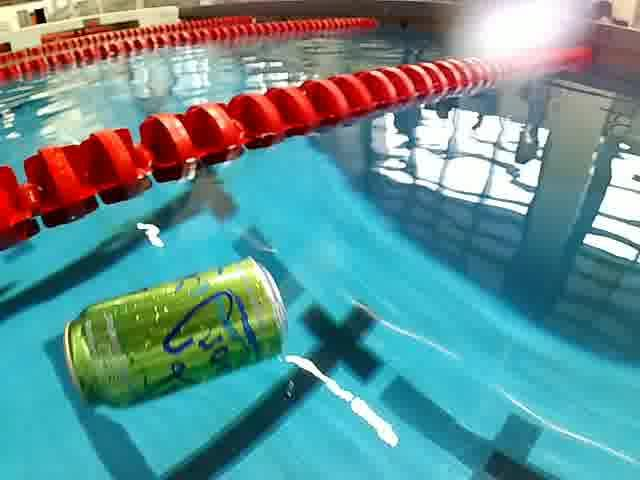Can: (54, 233, 291, 419)
